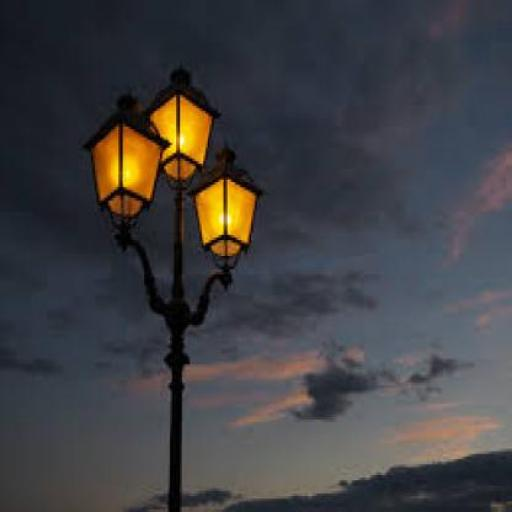street light: (85, 66, 265, 510)
